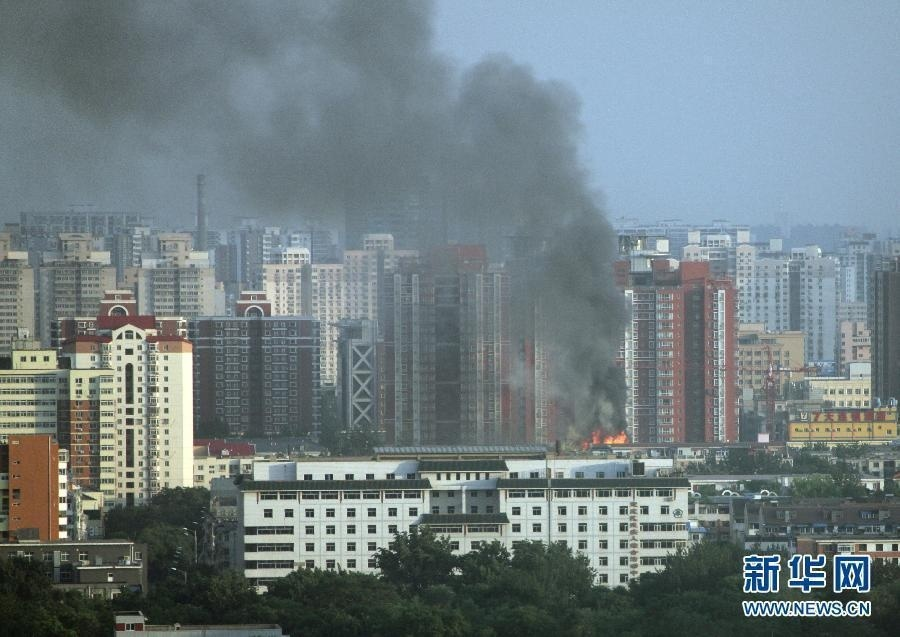fire: (584, 426, 628, 449)
